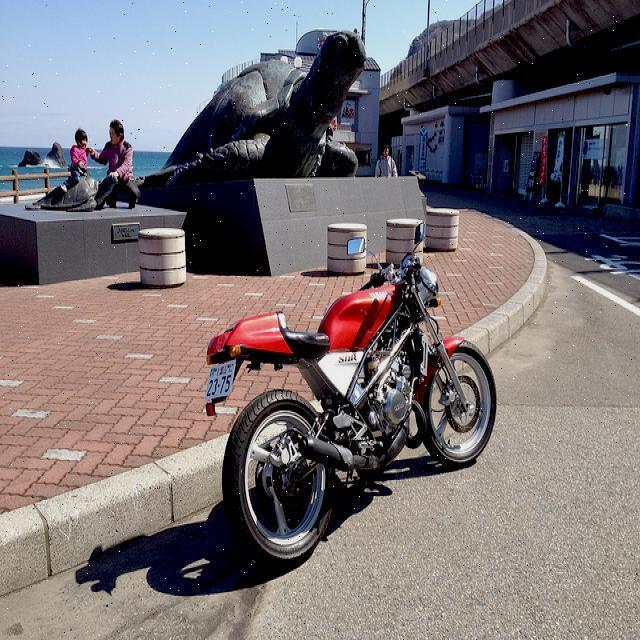motorcycle: (204, 220, 499, 569)
